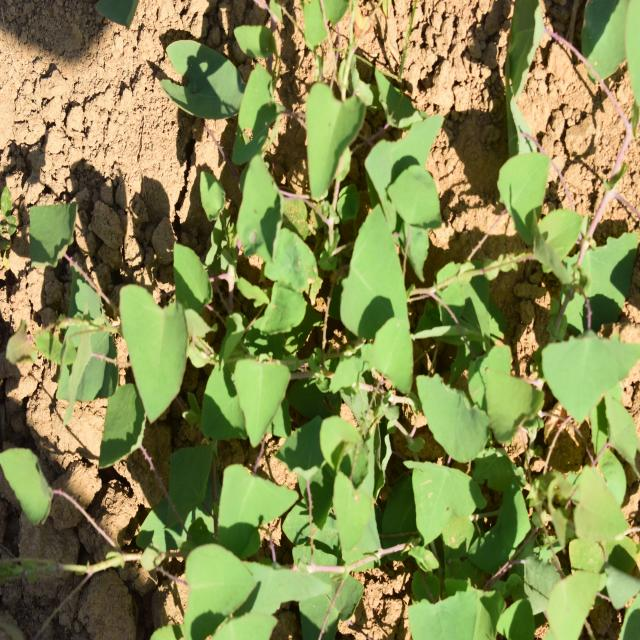Asiatic_Smartweed: (352, 114, 570, 483), (157, 410, 407, 640), (16, 191, 208, 460)
